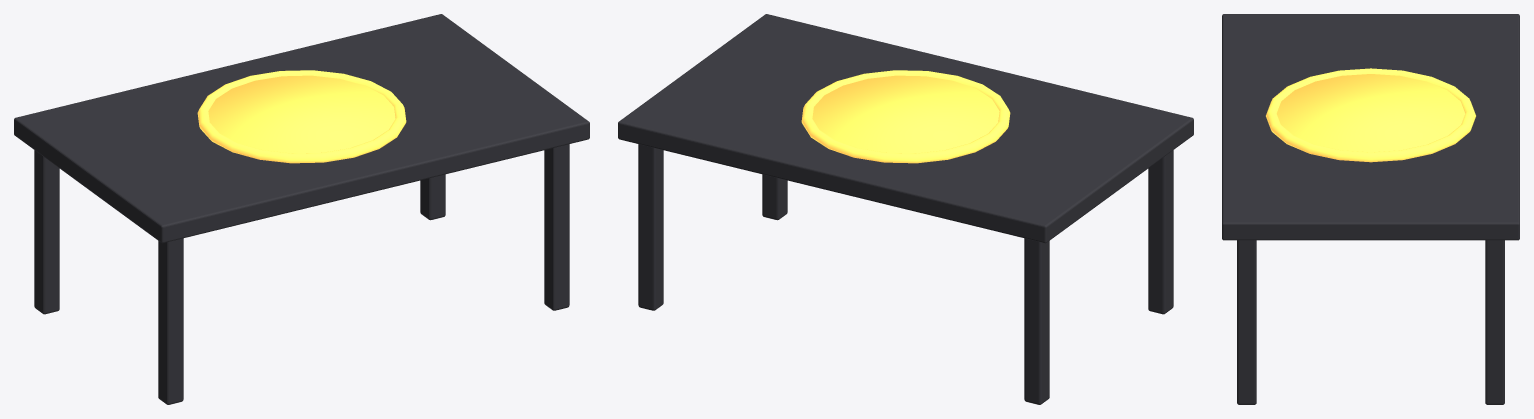
Rendered from low_table_brazier_table.glb.
The picture shows the model from 3 angles, left to right: view 1: azimuth 30°, elevation 25°; view 2: azimuth 150°, elevation 25°; view 3: azimuth 270°, elevation 25°; orthographic projection.
Visible parts, largest first — view 1: GD_low_table_brazier_table__m0, GD_low_table_brazier_table__m1; view 2: GD_low_table_brazier_table__m0, GD_low_table_brazier_table__m1; view 3: GD_low_table_brazier_table__m0, GD_low_table_brazier_table__m1.
Part boxes in pixels (<box>): GD_low_table_brazier_table__m0: <box>14,14,589,404</box>; GD_low_table_brazier_table__m1: <box>197,70,406,163</box>; GD_low_table_brazier_table__m0: <box>618,14,1193,404</box>; GD_low_table_brazier_table__m1: <box>801,70,1010,163</box>; GD_low_table_brazier_table__m0: <box>1222,14,1519,404</box>; GD_low_table_brazier_table__m1: <box>1266,68,1475,162</box>.
Size of the model in its own units: 1 by 0.437 by 0.6.
